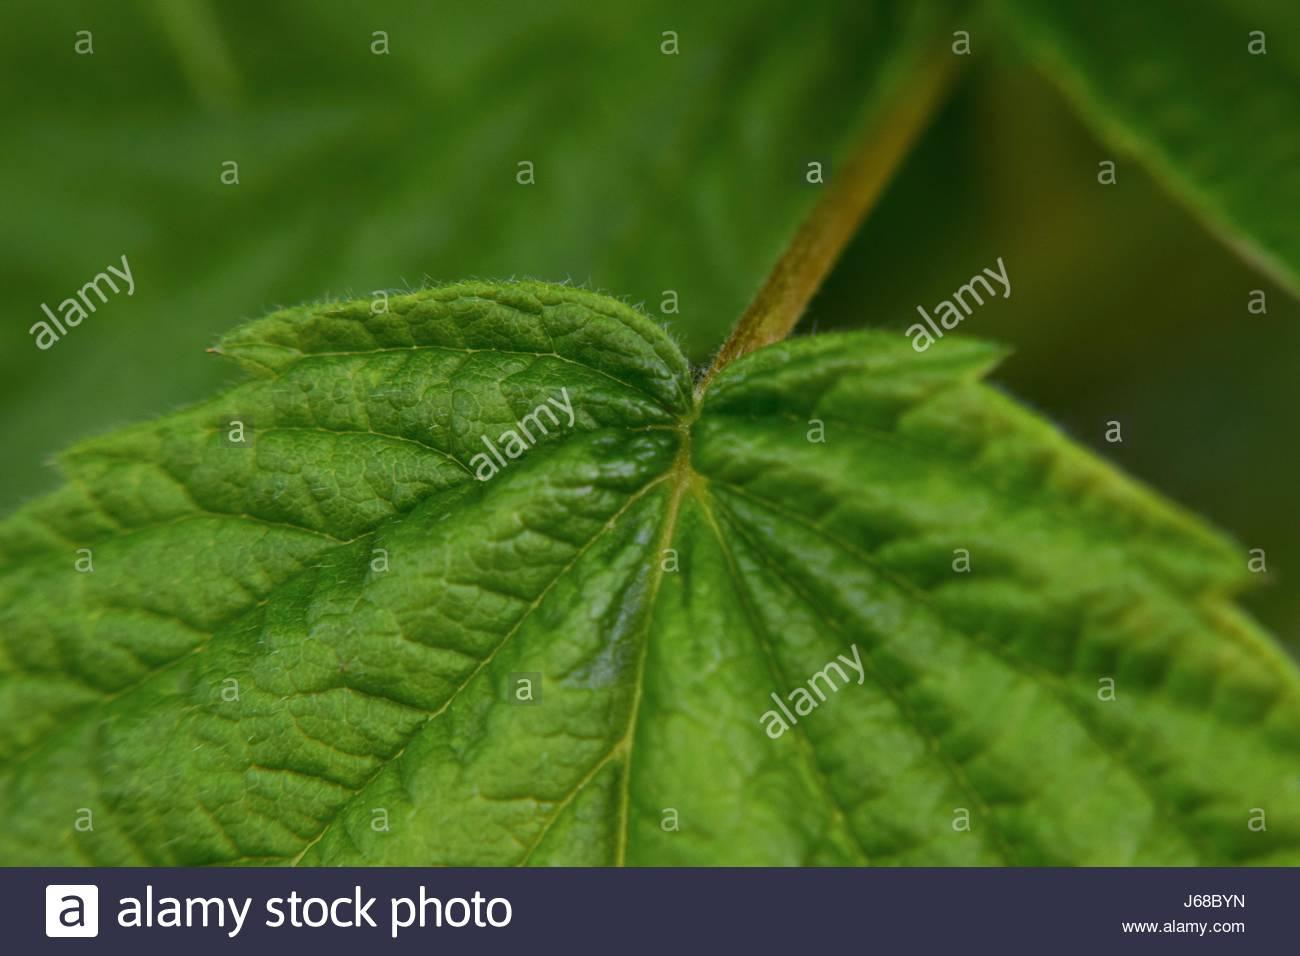Raspberry leaf: (1, 271, 1299, 866)
